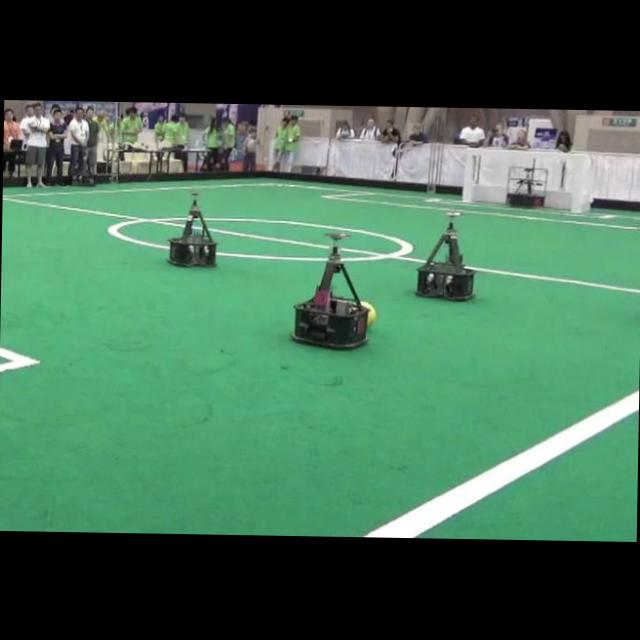ball: (361, 300, 376, 324)
goal: (571, 155, 585, 212), (462, 147, 474, 201)
robot: (291, 232, 367, 346), (416, 220, 473, 298), (168, 197, 215, 265), (506, 164, 548, 205)
